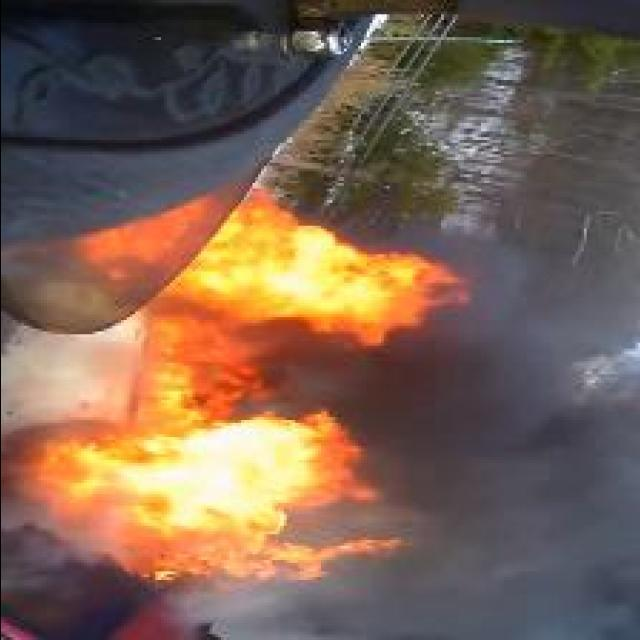Fire: (20, 316, 403, 590), (160, 192, 468, 346)
